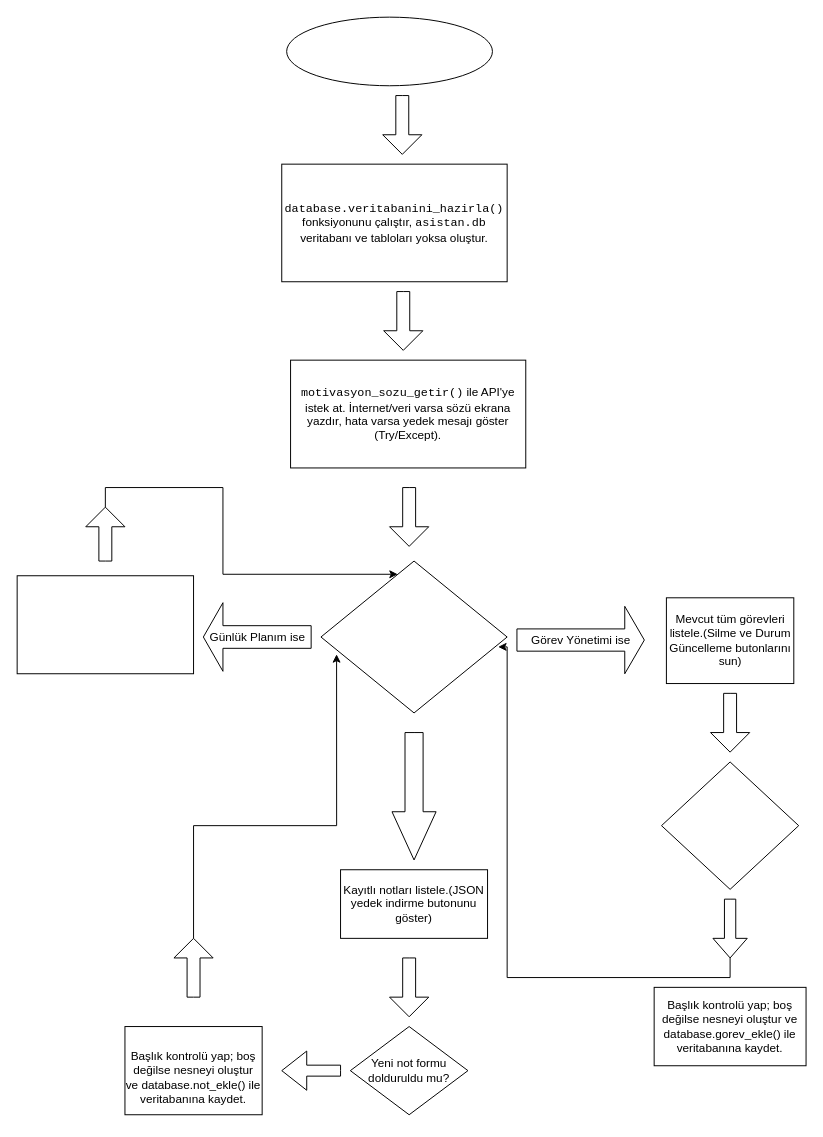
The diagram is 823 pixels wide and 1137 high, and some of its shapes have lost their labels. The centre of each missing label's shape, as x and y in pixels:
BAŞLA: point 389,51
Kullanıcı hangi menüyü seçti?: point 413,636
Notlarım ise: point 413,796
Tarihi ekrana yazdır. Veritabanından bugünün görevlerini çek ve ekranda listele.: point 105,624
Yeni görev formu dolduruldu mu?: point 730,825
